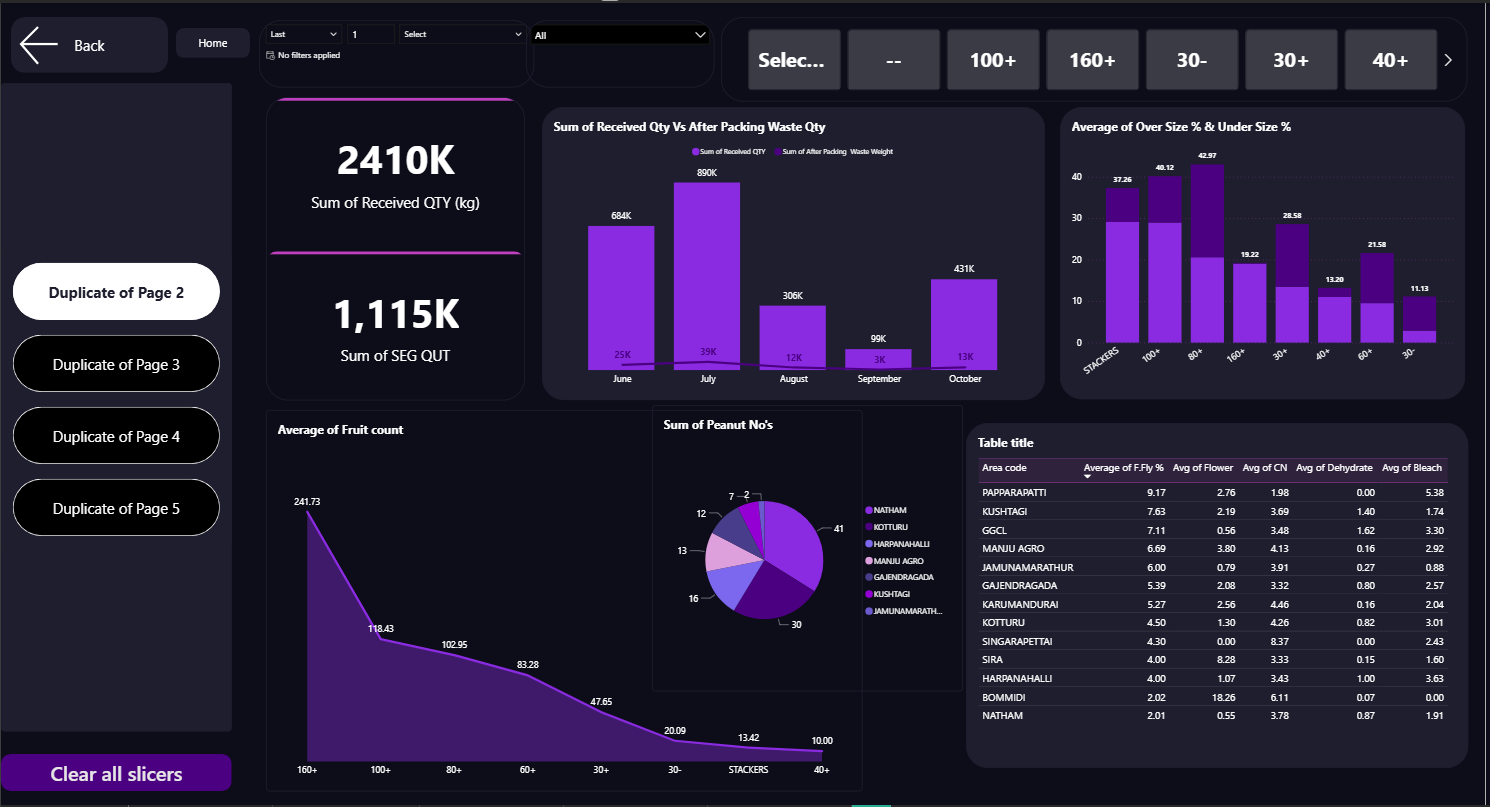

This screenshot's page, from the dashboard's own definition file:
{"tool":"powerbi","page":{"name":"Duplicate of Page 2","canvas":[2000,1080],"ordinal":1},"visuals":[{"type":"group","id":"g1","title":"Group 1","box":[347.7,18.9,1629.8,1043.1],"z":0},{"type":"lineStackedColumnComboChart","title":"Sum of Received Qty Vs After  Packing  Waste Qty","fields":{"Category":["RECEVING FEED BACK DETAILS.Date.Variation.Date Hierarchy.Month"],"Y2":["Sum(RECEVING FEED BACK DETAILS.AFTER PACKING WASTE LOSS)"],"Y":["Sum(RECEVING FEED BACK DETAILS.Received QTY              (kg))"]},"box":[729.5,140.4,677.9,394.9],"z":0,"group":"g1"},{"type":"shape","box":[0,107.7,311.1,874],"z":1000},{"type":"pieChart","title":"Sum of Peanut No''s ","fields":{"Category":["RECEVING FEED BACK DETAILS.Area code"],"Y":["Sum(RECEVING FEED BACK DETAILS.FM / Peanut  No's)"]},"box":[877.1,541.9,419,386.1],"z":1000,"group":"g1"},{"type":"slicer","fields":{"Values":["RECEVING FEED BACK DETAILS.Date"]},"box":[347.7,23.5,371,91.5],"z":2000,"group":"g1"},{"type":"actionButton","box":[235.7,33.7,99.7,40.4],"z":2000},{"type":"actionButton","box":[13.5,18.9,211.6,75.5],"z":3000},{"type":"columnChart","title":"Average of Over Size %  & Under Size % ","fields":{"Category":["RECEVING FEED BACK DETAILS.Grade"],"Y":["Avg(RECEVING FEED BACK DETAILS.over size %)","Avg(RECEVING FEED BACK DETAILS.under size %)"]},"box":[1427.6,140.4,545.8,393.5],"z":3000,"group":"g1"},{"type":"pageNavigator","box":[0,333.8,310.8,400],"z":4000},{"type":"tableEx","fields":{"Values":["RECEVING FEED BACK DETAILS.Area code","Avg(RECEVING FEED BACK DETAILS.F.Fly  %)","Avg(RECEVING FEED BACK DETAILS.Flower %)","Avg(RECEVING FEED BACK DETAILS.CN %)","Avg(RECEVING FEED BACK DETAILS.Dehydration    %)","Avg(RECEVING FEED BACK DETAILS.Bleach %)"]},"box":[1300.9,566.2,676.5,465],"z":4000,"group":"g1"},{"type":"slicer","fields":{"Values":["RECEVING FEED BACK DETAILS.Area code"]},"box":[707.4,23.5,253.9,91.5],"z":5000,"group":"g1"},{"type":"actionButton","box":[0,1012.7,311.1,49.8],"z":5000},{"type":"areaChart","title":"Average of Fruit count ","fields":{"Category":["RECEVING FEED BACK DETAILS.Grade"],"Y":["Avg(RECEVING FEED BACK DETAILS.Fruit count - No's)"]},"box":[357.4,548.3,804,513.7],"z":6000,"group":"g1"},{"type":"cardVisual","fields":{"Data":["Sum(RECEVING FEED BACK DETAILS.Received QTY              (kg))","Sum(RECEVING FEED BACK DETAILS.SEG QUT)"]},"box":[357.4,126.2,349.4,409.2],"z":7000,"group":"g1"},{"type":"advancedSlicerVisual","fields":{"Values":["RECEVING FEED BACK DETAILS.Grade"]},"box":[970.6,18.9,1005.9,114.5],"z":8000,"group":"g1"}]}

Visuals, with their boxes on the page's 2000x1080 design canvas (x1, y1, x2, y2). These are canvas units, not pixel positions in the 1490x807 screenshot, which may show the page scaled, cropped or inside an application window:
"Group 1" group: select_region(348, 19, 1978, 1062)
"Sum of Received Qty Vs After  Packing  Waste Qty" lineStackedColumnComboChart: select_region(730, 140, 1407, 535)
shape: select_region(0, 108, 311, 982)
"Sum of Peanut No''s " pieChart: select_region(877, 542, 1296, 928)
slicer - RECEVING FEED BACK DETAILS.Date: select_region(348, 24, 719, 115)
actionButton: select_region(236, 34, 335, 74)
actionButton: select_region(14, 19, 225, 94)
"Average of Over Size %  & Under Size % " columnChart: select_region(1428, 140, 1973, 534)
pageNavigator: select_region(0, 334, 311, 734)
tableEx - RECEVING FEED BACK DETAILS.Area code x Avg(RECEVING FEED BACK DETAILS.F.Fly  %): select_region(1301, 566, 1977, 1031)
slicer - RECEVING FEED BACK DETAILS.Area code: select_region(707, 24, 961, 115)
actionButton: select_region(0, 1013, 311, 1062)
"Average of Fruit count " areaChart: select_region(357, 548, 1161, 1062)
cardVisual - Sum(RECEVING FEED BACK DETAILS.Received QTY              (kg)) x Sum(RECEVING FEED BACK DETAILS.SEG QUT): select_region(357, 126, 707, 535)
advancedSlicerVisual - RECEVING FEED BACK DETAILS.Grade: select_region(971, 19, 1976, 133)
